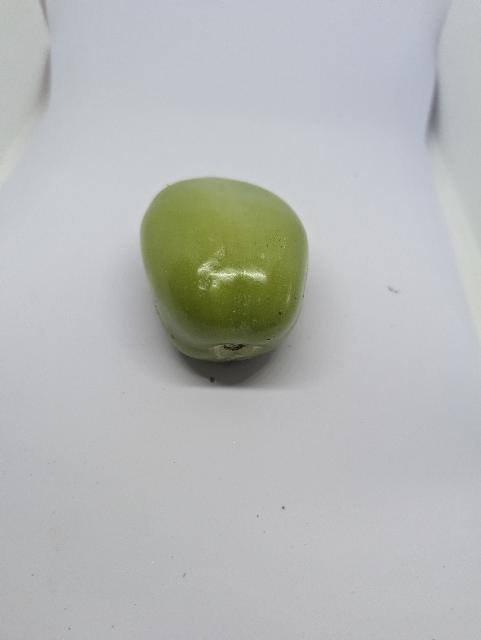green: (129, 173, 318, 373)
